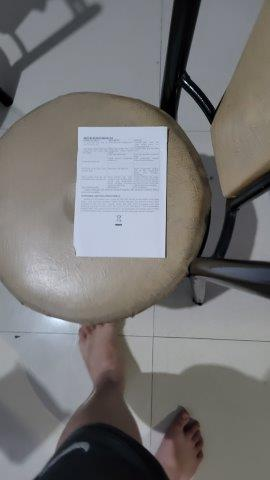kertas: (72, 125, 168, 256)
